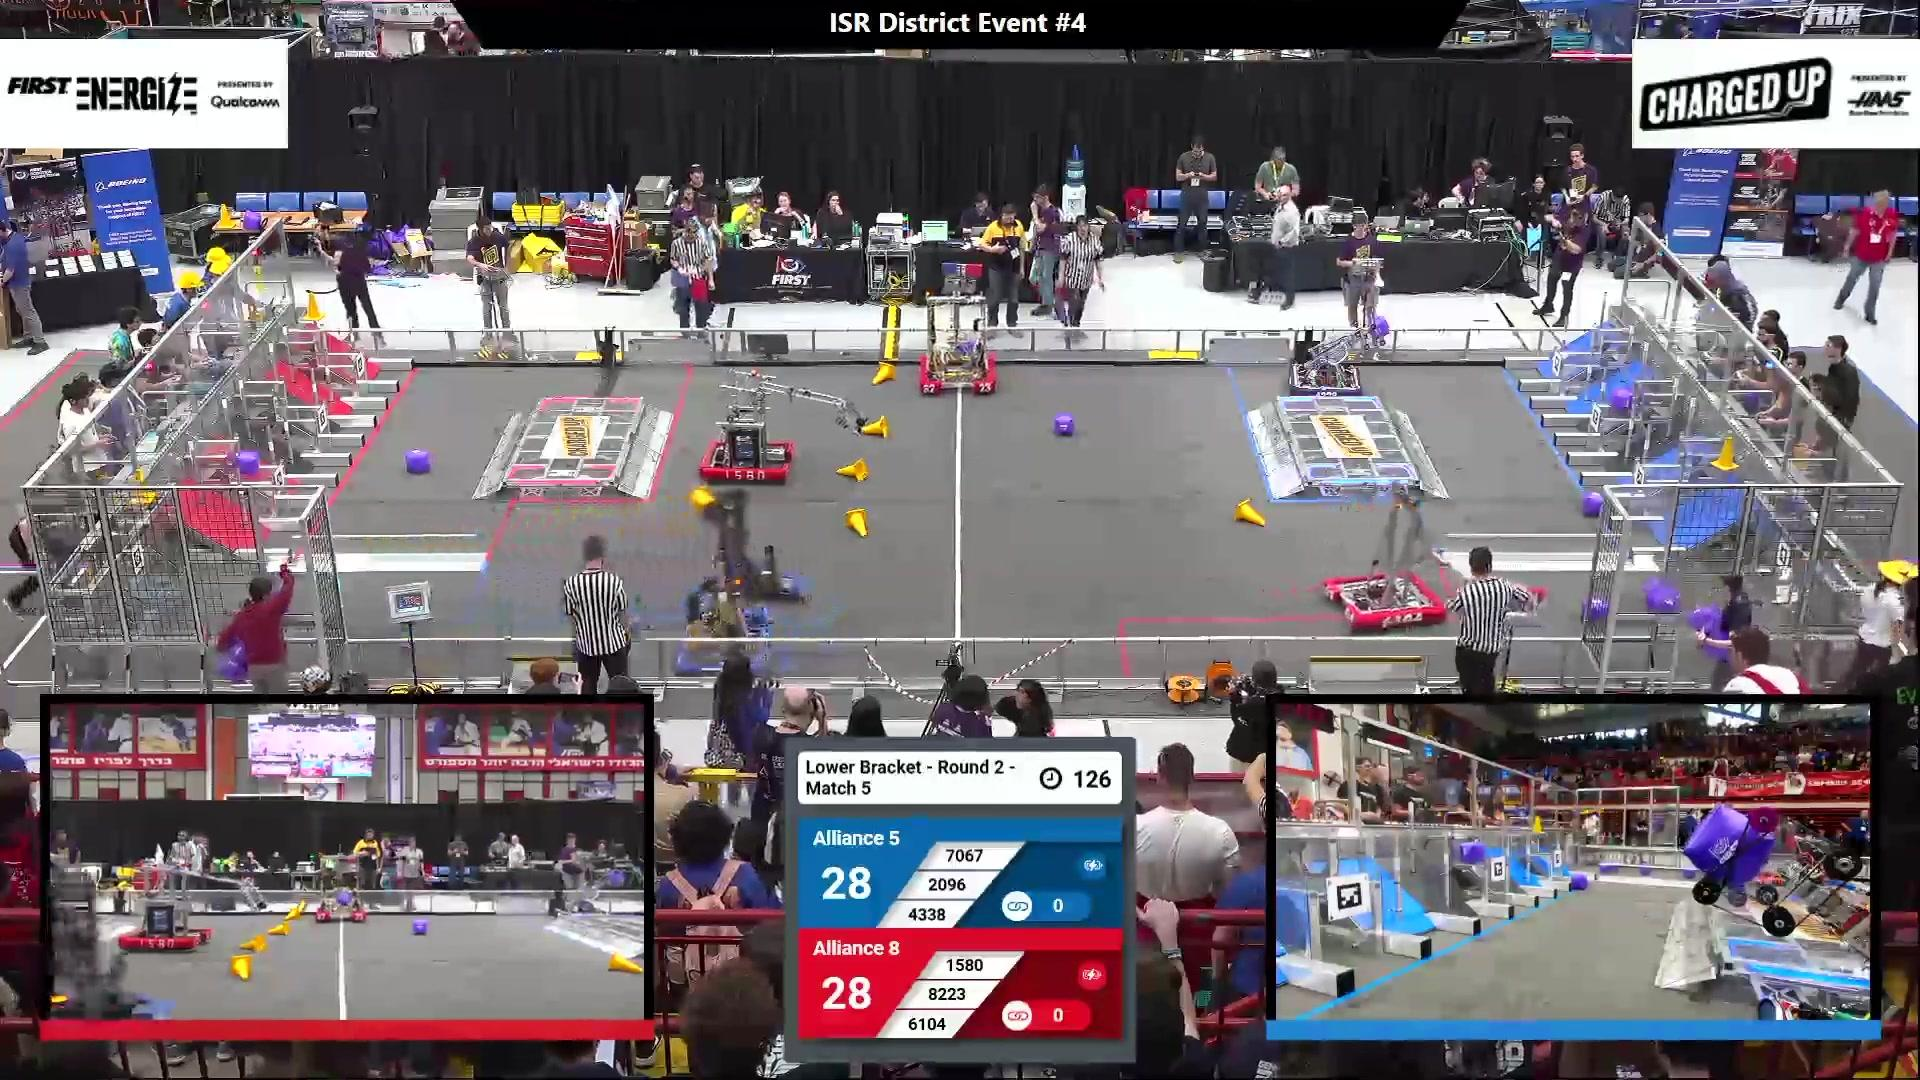robot: (1680, 798, 1870, 1018), (53, 849, 179, 1021), (1321, 480, 1448, 633), (700, 373, 869, 484), (682, 483, 808, 625), (113, 856, 268, 952), (673, 554, 774, 679), (1287, 311, 1396, 397), (916, 290, 996, 396), (314, 848, 371, 928)
